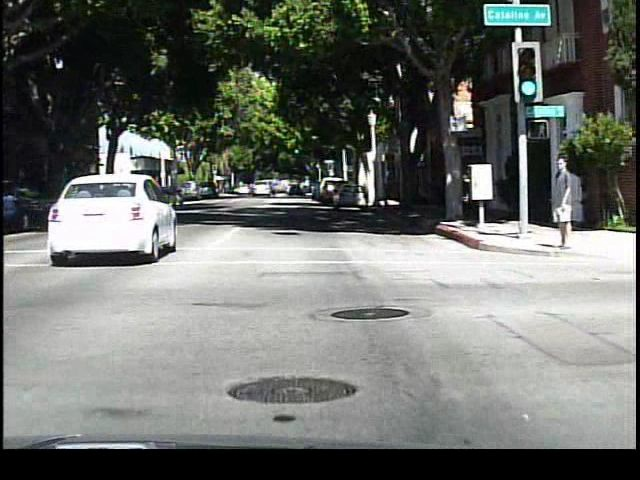person: (543, 151, 575, 254)
